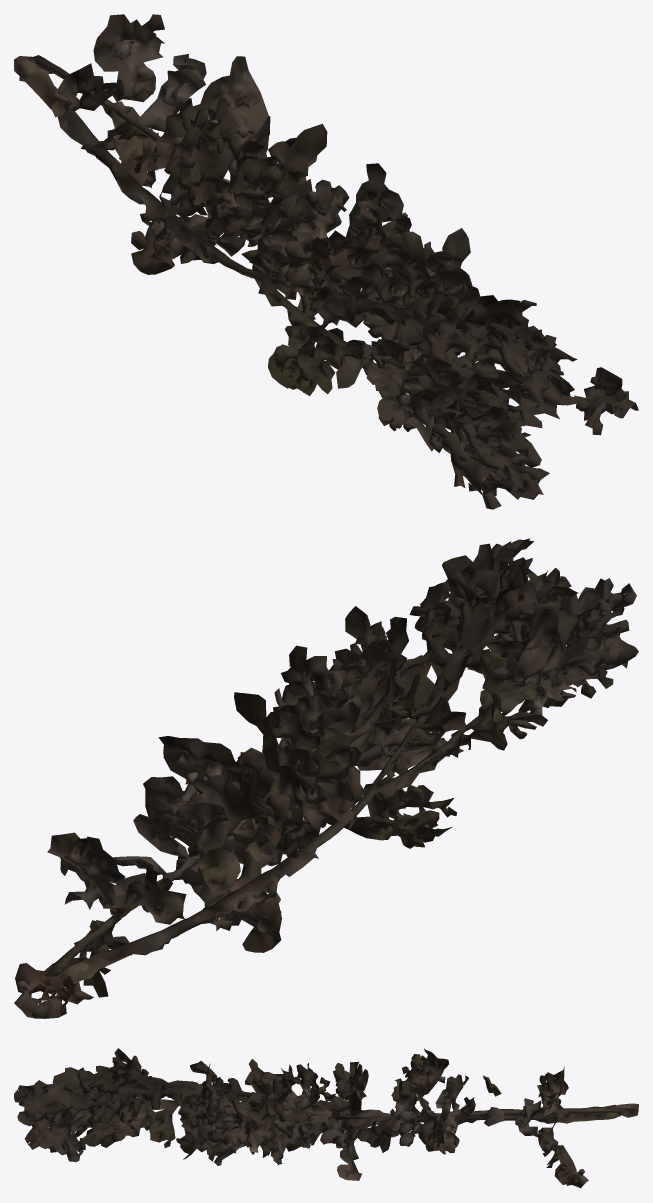
File: tree_mesh.dae
3 views of the same model, one above another, from view 1: azimuth 30°, elevation 25°; view 2: azimuth 150°, elevation 25°; view 3: azimuth 270°, elevation 25° (orthographic). The views are drawn at different scales.
Parts seen in each view (by area): view 1: node0; view 2: node0; view 3: node0.
Boxes of the visible parts, bbox=[...] form: node0: bbox=[14, 14, 638, 509]; node0: bbox=[14, 538, 638, 1018]; node0: bbox=[14, 1048, 638, 1188].
Bounding box in the file's own units: 5.94 × 6.16 × 28.53.
